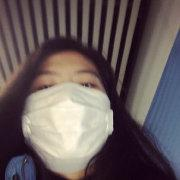OK: (23, 68, 113, 163)
